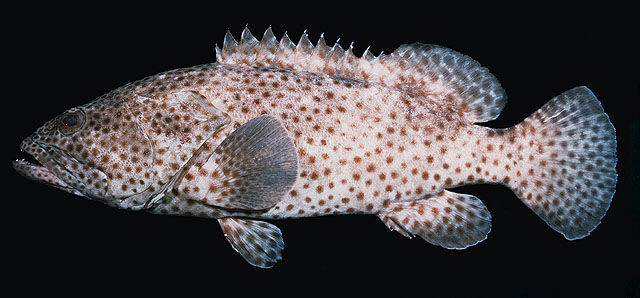fish: (13, 23, 619, 270)
